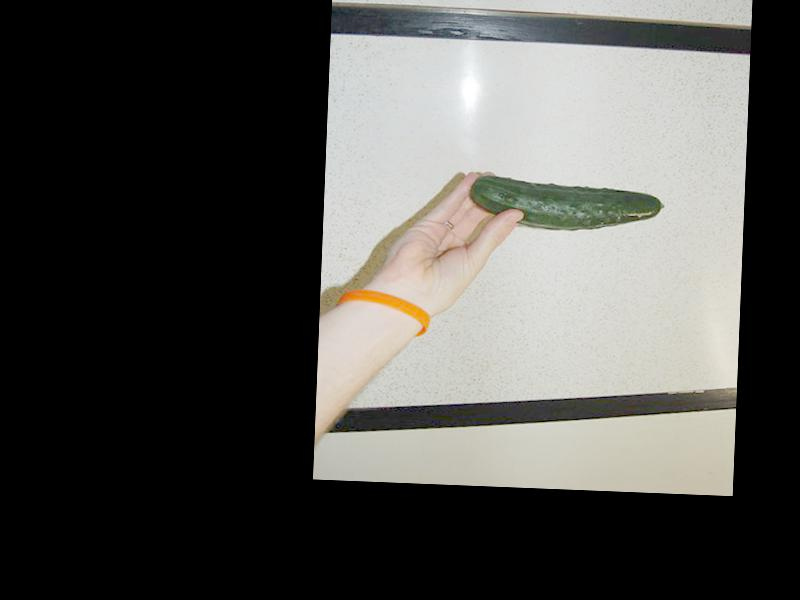Cucumber: (468, 174, 666, 232)
